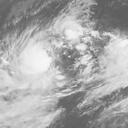cyclone: (39, 35, 99, 91)
